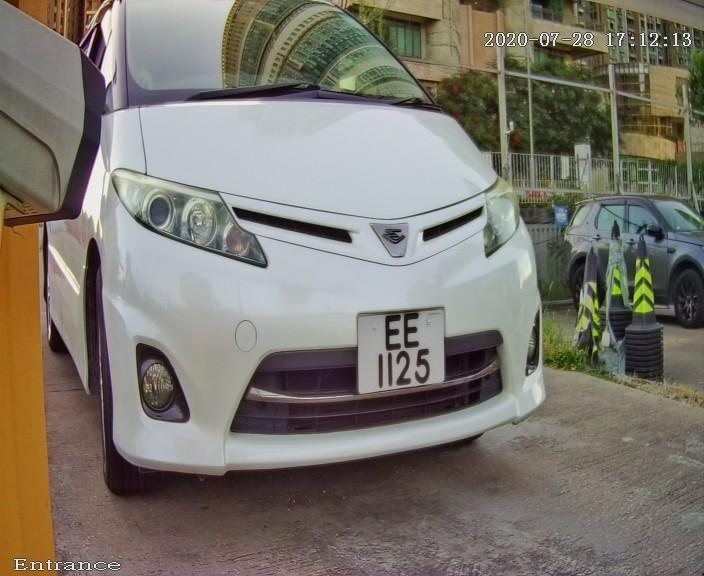privatecar: (32, 6, 610, 520)
